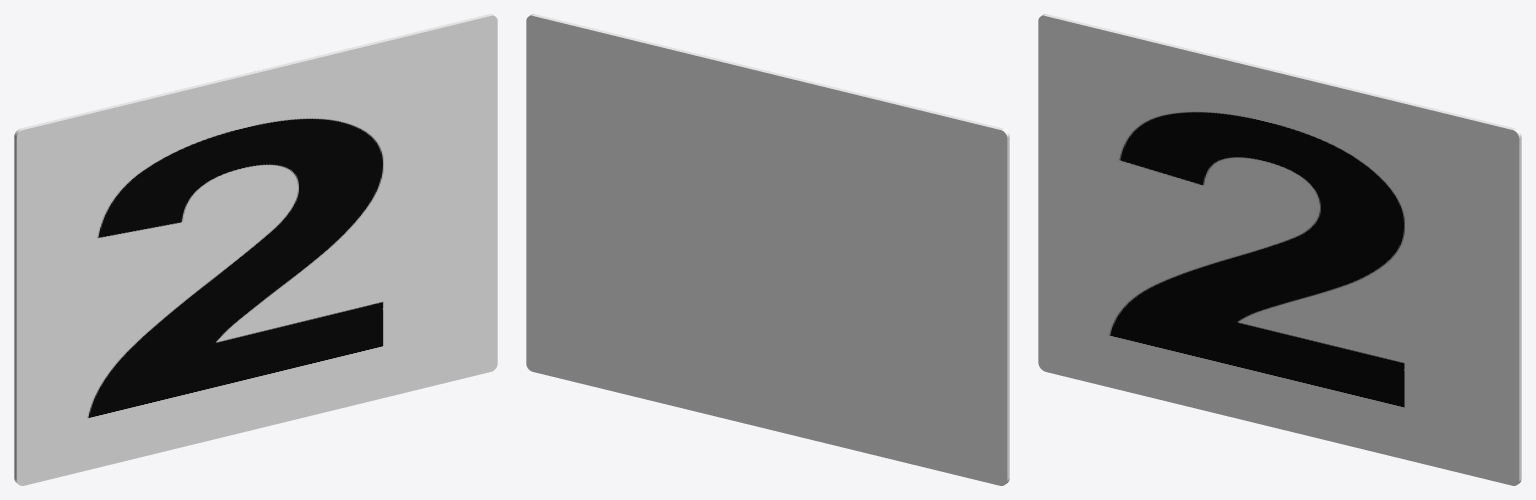
3 renders of one model, left to right at view 1: azimuth 30°, elevation 25°; view 2: azimuth 150°, elevation 25°; view 3: azimuth 330°, elevation 25°, orthographic.
Visible parts, largest first — view 1: Danger_sign; view 2: Danger_sign (×2); view 3: Danger_sign.
Part boxes in pixels (left/top/right/bottom): Danger_sign: left=14, top=14, right=497, bottom=485; Danger_sign (×2): left=526, top=14, right=1009, bottom=485; Danger_sign: left=1038, top=14, right=1521, bottom=485.
Bounding box in the file's own units: 11.63 × 0.1 × 8.22.
Materials: 2 (1 with a texture image).
